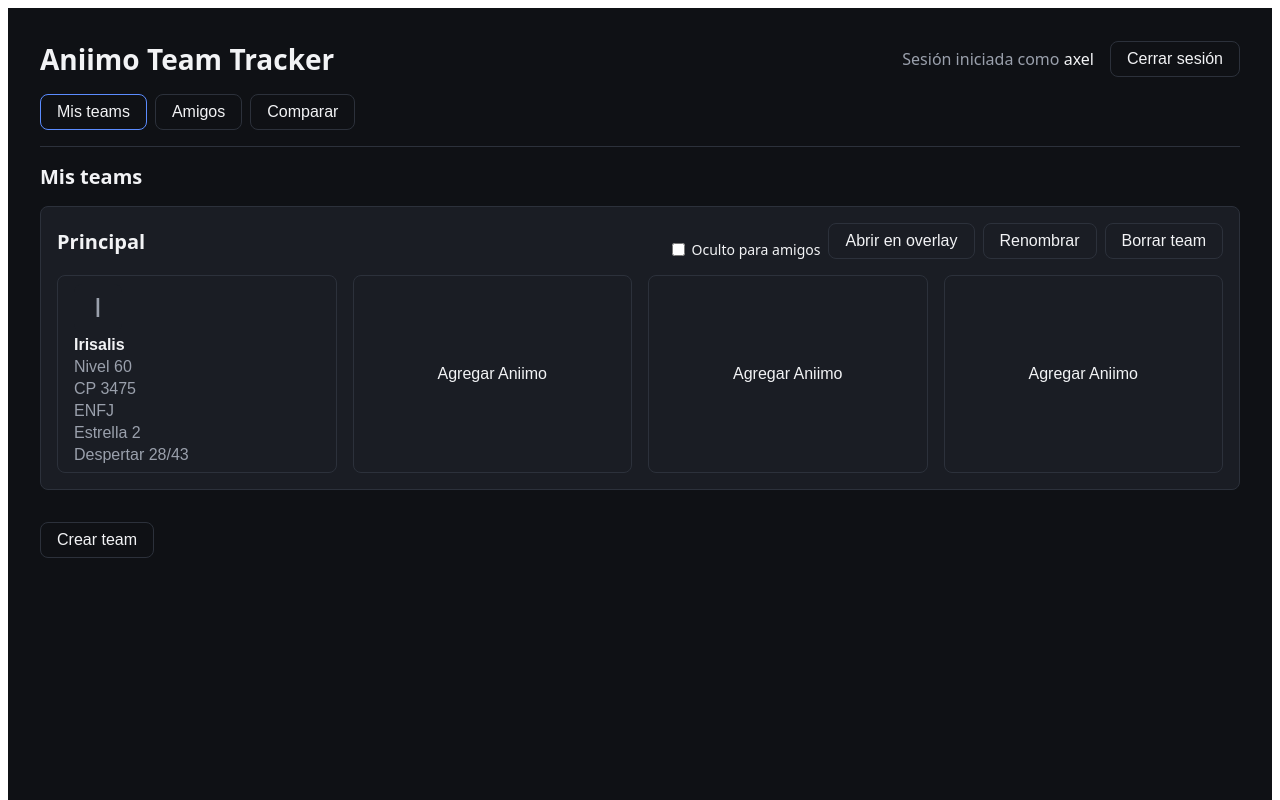
Test case: estado de amigos centralizado › abrir y cerrar una ficha propia dispara un refresco cada vez
Expected: the heading "Mis teams" is shown, [40,163,142,190]
Click the 1st button "Agregar Aniimo" at (492, 374), box [352,275,632,473]
(page scrolled)
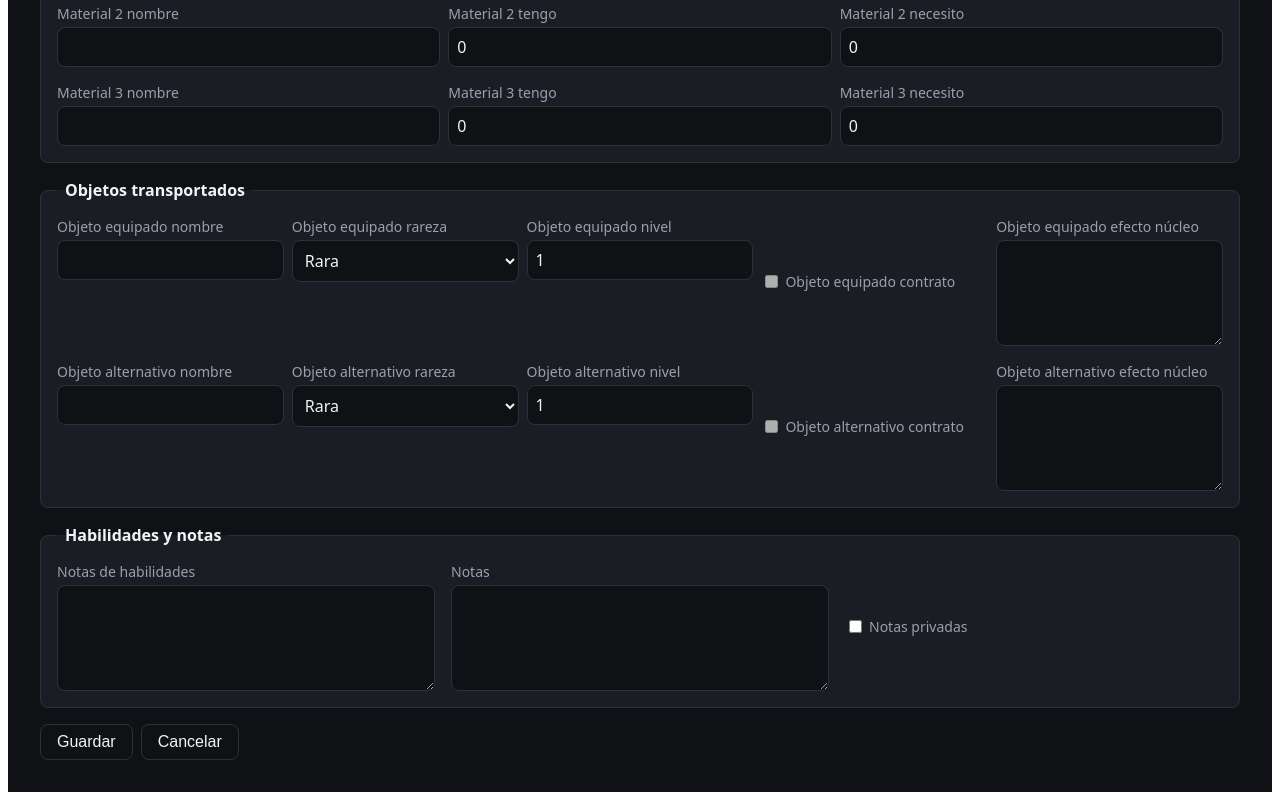
Click the button "Cancelar" at (190, 742), box [141,724,239,760]
(page scrolled)
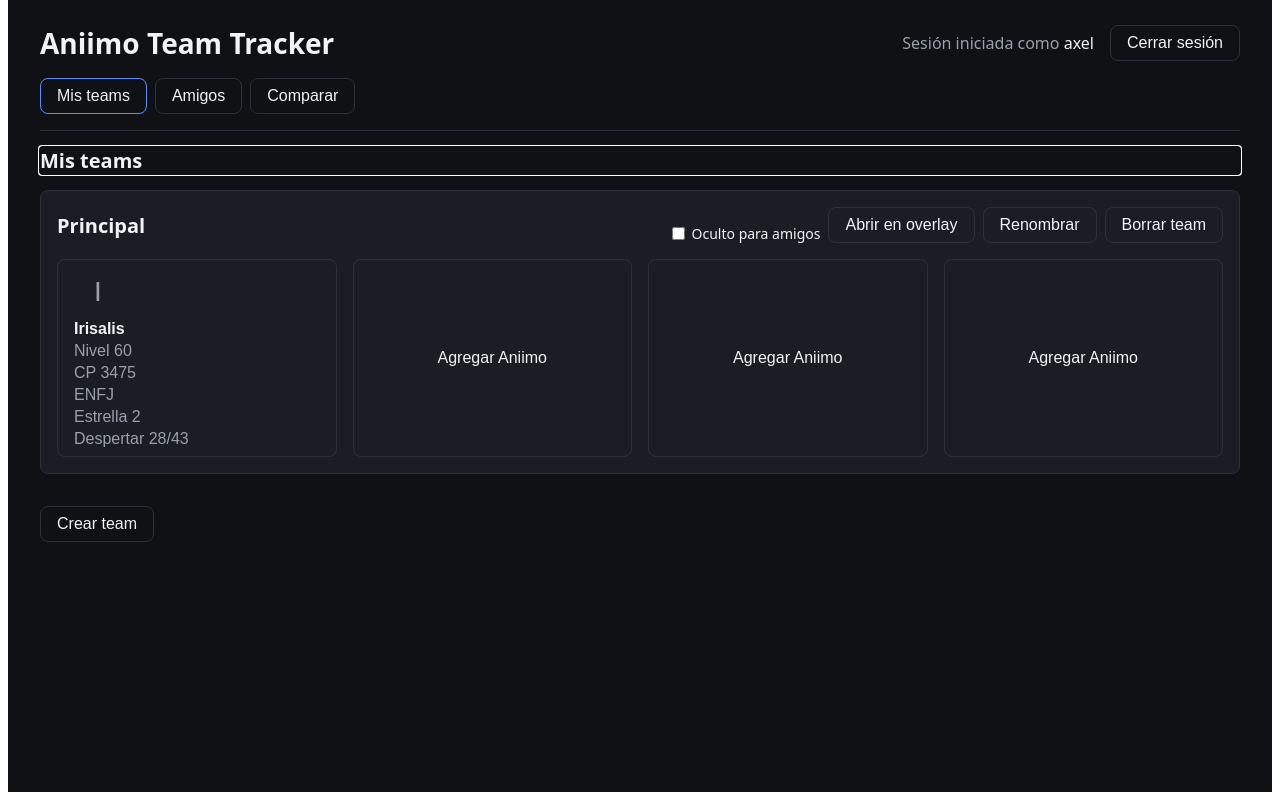
Now the heading "Mis teams" is shown, box [40,147,142,174]
